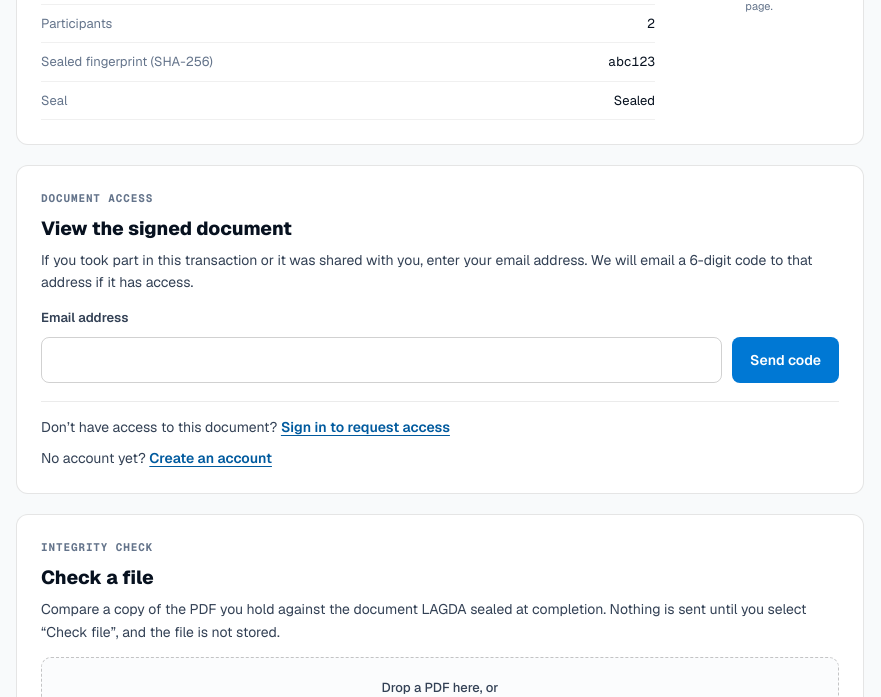
Test case: /verify/:id access flow › a wrong code (401) stays on the code step with a clear message
(page scrolled)
Type "maria@example.com" into the field labelled "Email address" at (382, 360), box [41, 337, 722, 383]
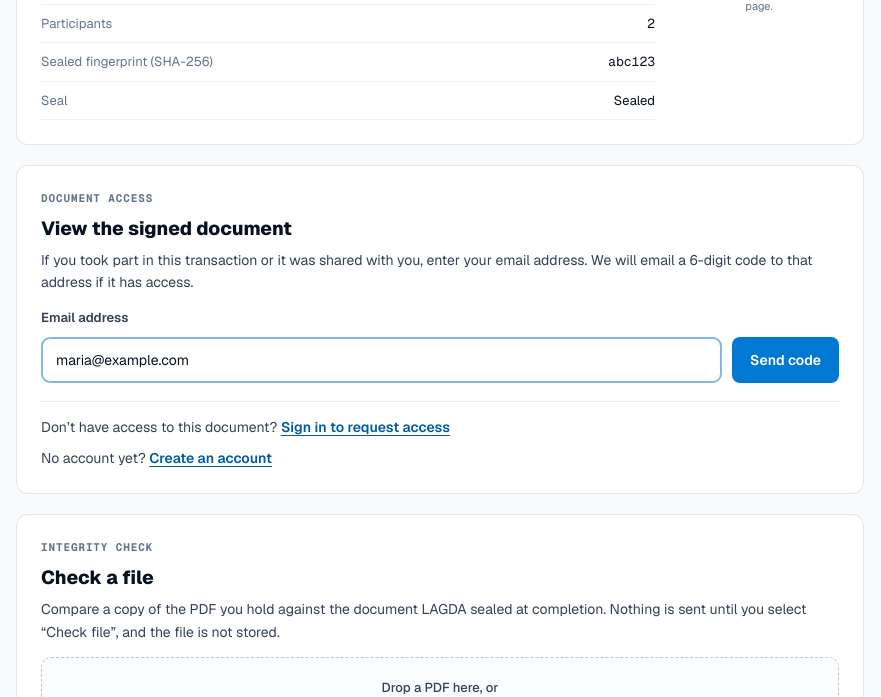
Click the button "Send code" at (786, 360), box [732, 337, 839, 383]
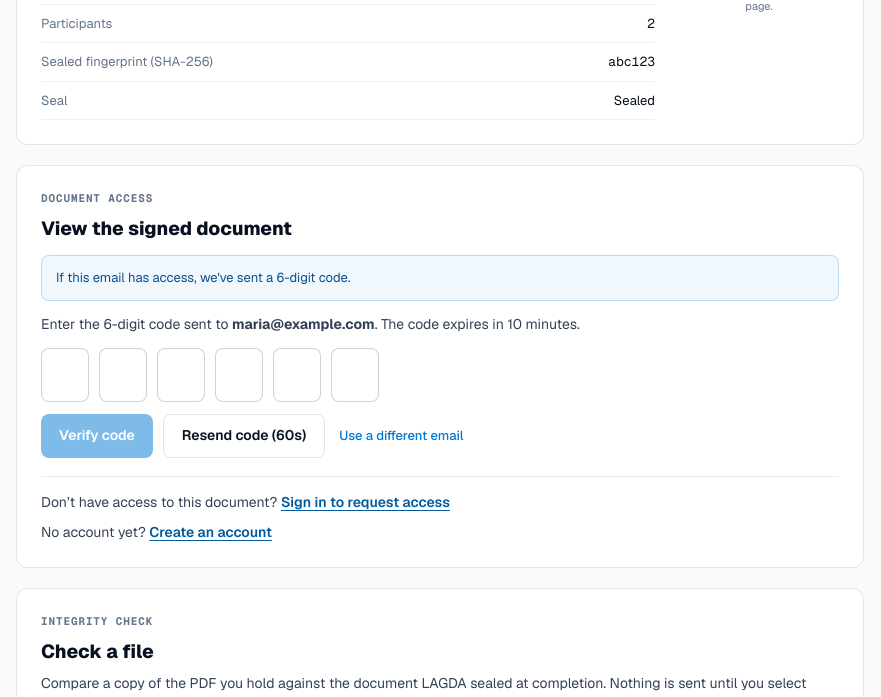
Now the text "If this email has access, we've sent a 6-digit code." is shown, box [41, 255, 839, 301]
Click the field named "Digit 1 of 6" at (65, 375), box [41, 348, 89, 402]
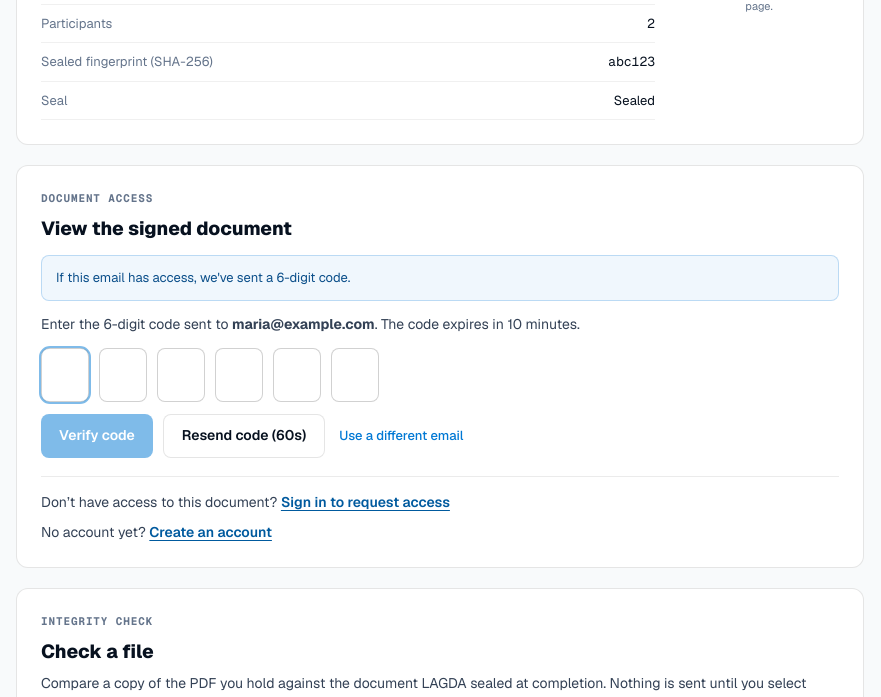
Type keys "000000"
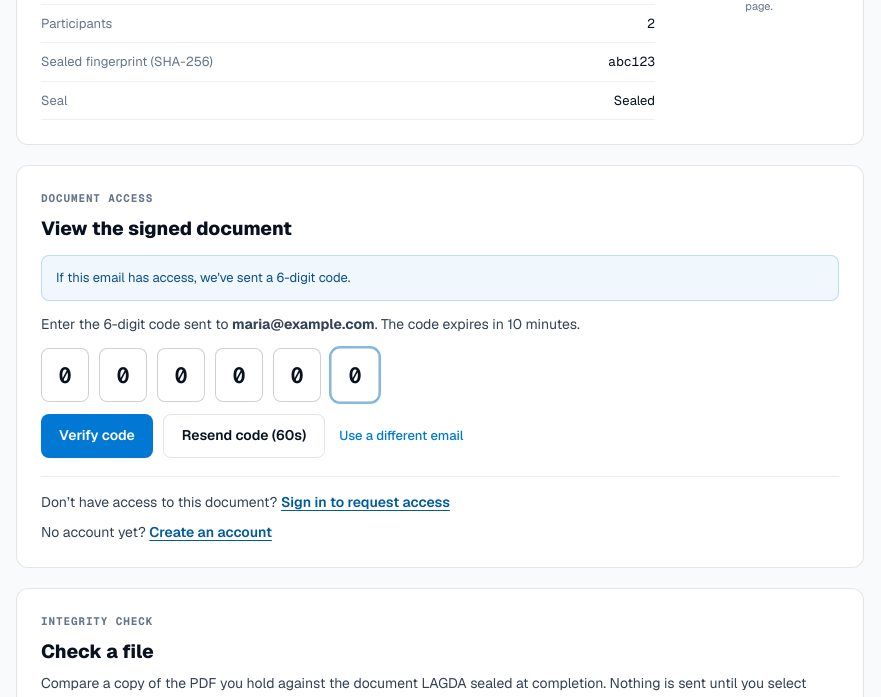
Click the button "Verify code" at (97, 436), box [41, 414, 153, 458]
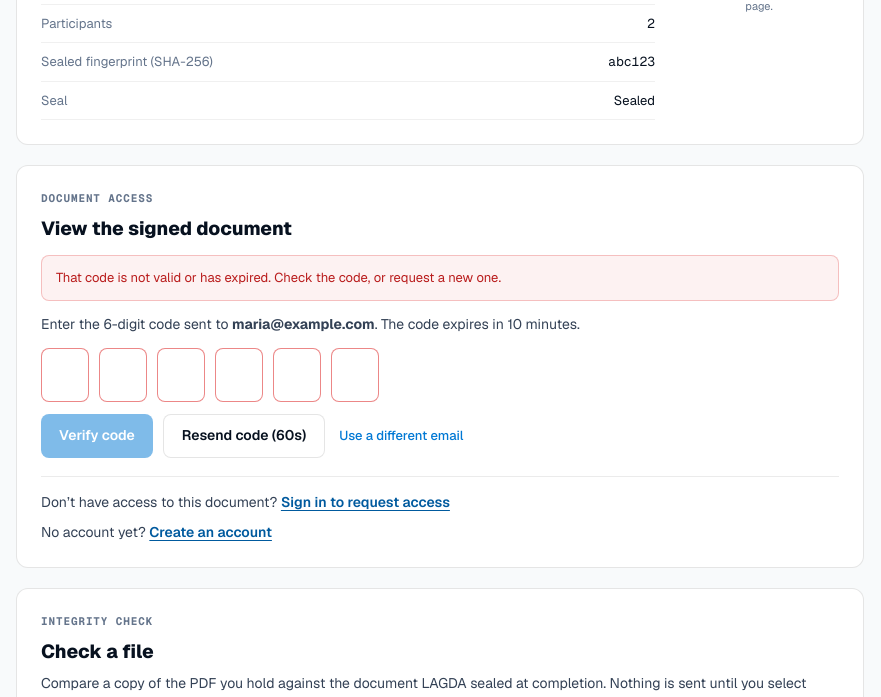
Now the field named "Digit 1 of 6" is shown, box [41, 348, 89, 402]
Now the text "That code is not valid or has expired" is shown, box [56, 269, 501, 286]
